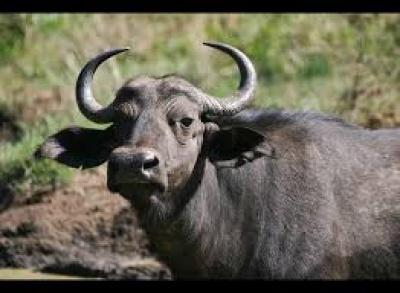buffalo: (36, 42, 399, 278)
